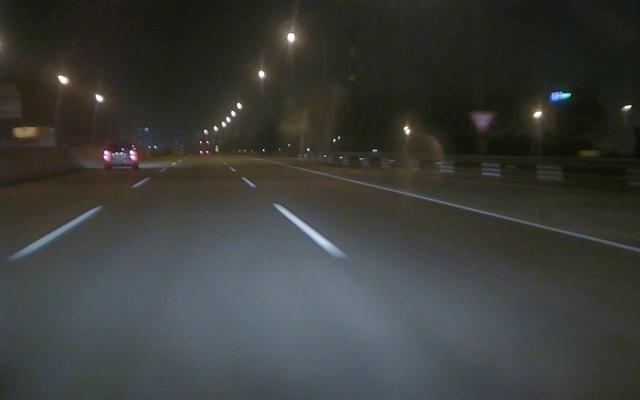lane: (342, 178, 638, 254), (3, 181, 143, 268), (237, 172, 355, 264)
